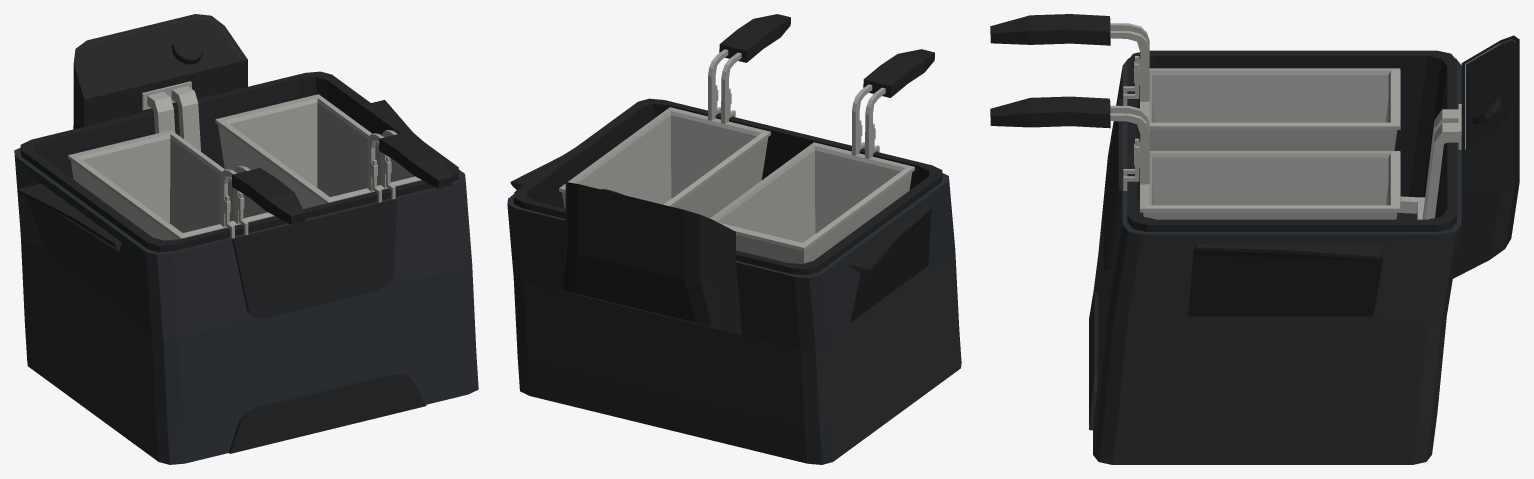
Rendered from deepfryer_01_E.gltf.
3 views of the same model, side by side, from view 1: azimuth 30°, elevation 25°; view 2: azimuth 150°, elevation 25°; view 3: azimuth 270°, elevation 25° (orthographic). The views are drawn at different scales.
Visible parts, largest first — view 1: deepfryer_01_E, sievefordeepfryer_02_E, sievefordeepfryer_01_E, Buttonfordeepfryer_01_E; view 2: deepfryer_01_E, sievefordeepfryer_01_E, sievefordeepfryer_02_E; view 3: deepfryer_01_E, sievefordeepfryer_01_E, sievefordeepfryer_02_E, Buttonfordeepfryer_01_E.
Boxes of the visible parts, x1,y1,x2,y2 form: deepfryer_01_E: (14,14,478,464); sievefordeepfryer_02_E: (215,94,452,208); sievefordeepfryer_01_E: (68,130,304,240); Buttonfordeepfryer_01_E: (171,33,203,64); deepfryer_01_E: (507,98,961,464); sievefordeepfryer_01_E: (710,49,934,263); sievefordeepfryer_02_E: (559,14,790,218); deepfryer_01_E: (1089,35,1519,464); sievefordeepfryer_01_E: (990,14,1400,150); sievefordeepfryer_02_E: (990,96,1400,219); Buttonfordeepfryer_01_E: (1469,94,1501,124).
Bounding box in the file's own units: 0.575 × 0.4175 × 0.6241.
Materials: 1 (1 with a texture image).
